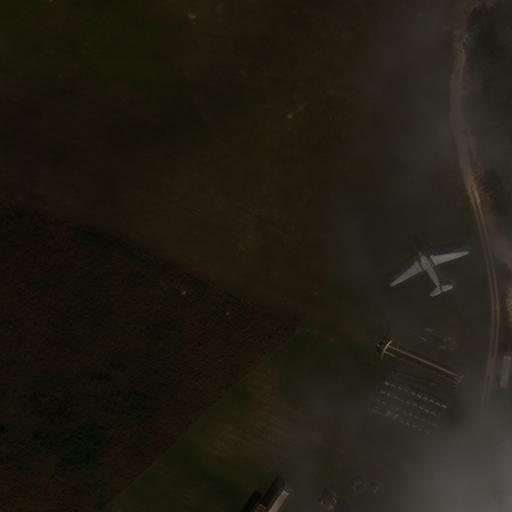Military Transport: (389, 250, 468, 292)
